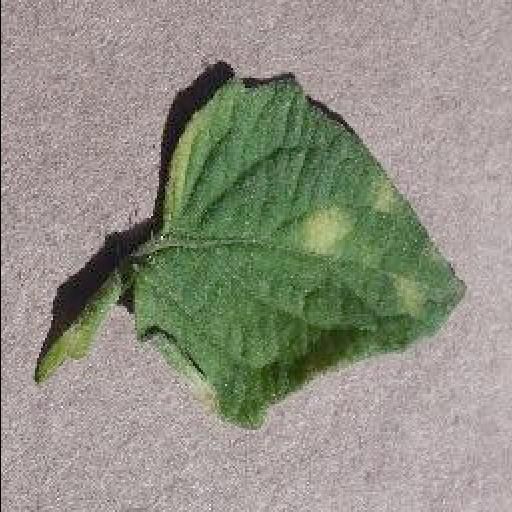disease_tomato: (130, 78, 466, 430)
